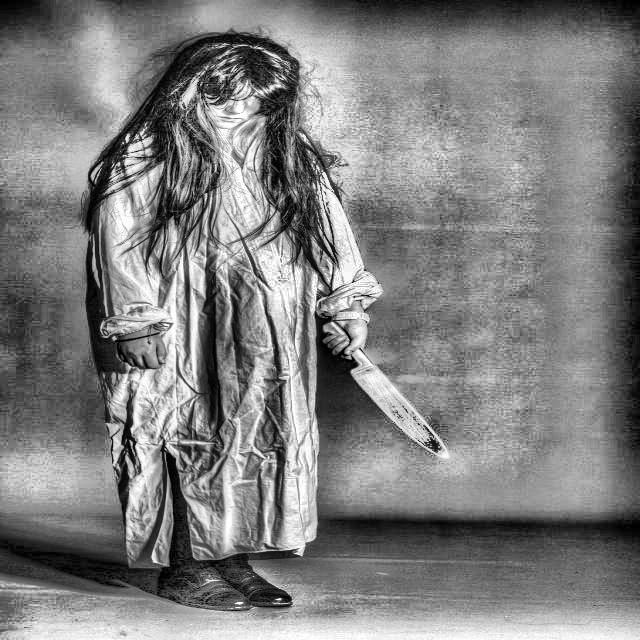knife: (316, 307, 462, 468)
